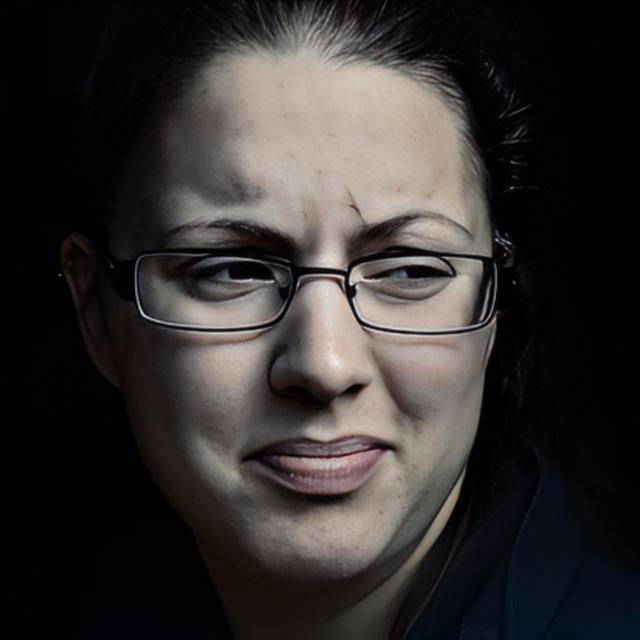disgust: (112, 31, 500, 592)
